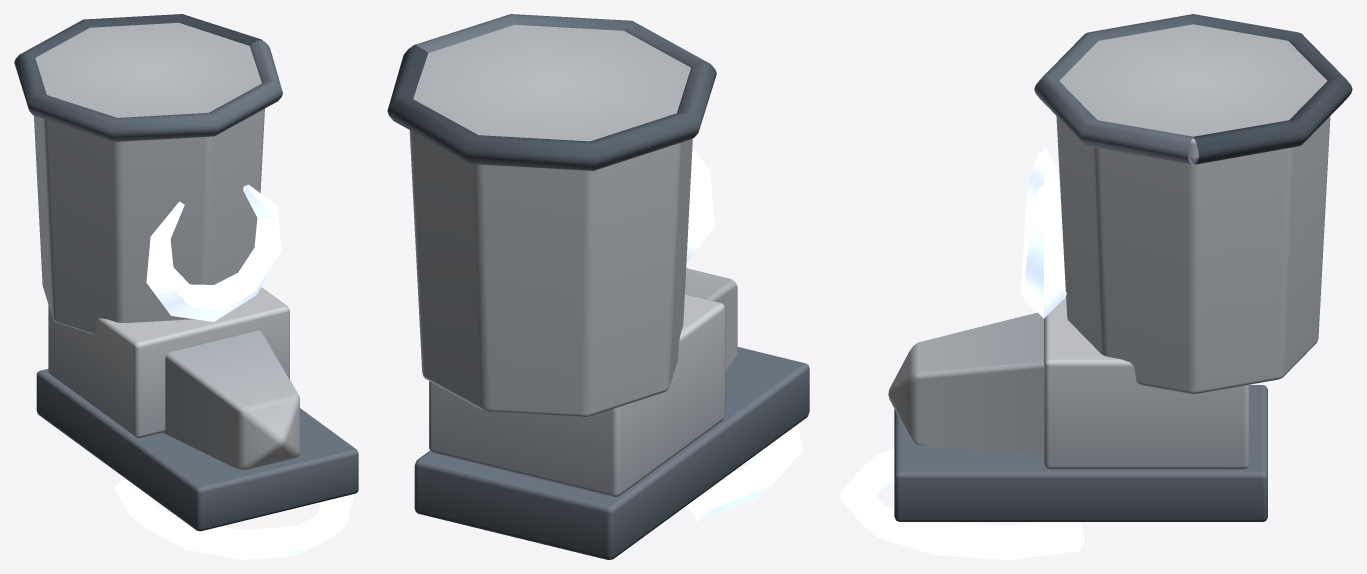
The model's file is lg_moonshod_greaves.glb.
3 renders of one model, left to right at view 1: azimuth 30°, elevation 25°; view 2: azimuth 150°, elevation 25°; view 3: azimuth 270°, elevation 25°, orthographic. The views are drawn at different scales.
Visible parts, largest first — view 1: lg_moonshod_greaves, lg_moonshod_greaves_glow; view 2: lg_moonshod_greaves, lg_moonshod_greaves_glow; view 3: lg_moonshod_greaves, lg_moonshod_greaves_glow.
Boxes of the visible parts, bbox=[...] form: lg_moonshod_greaves: bbox=[14, 14, 358, 531]; lg_moonshod_greaves_glow: bbox=[114, 184, 353, 559]; lg_moonshod_greaves: bbox=[387, 14, 809, 559]; lg_moonshod_greaves_glow: bbox=[686, 148, 803, 521]; lg_moonshod_greaves: bbox=[888, 14, 1352, 521]; lg_moonshod_greaves_glow: bbox=[838, 147, 1084, 559].
Size of the model in its own units: 0.6793 by 1.03 by 1.1.
